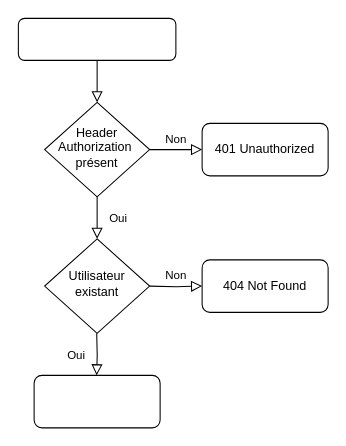
Image size: 346x446. Some labels were removed from this diagram. The shapes that lost their labels are listed below. From the top down, each one's centre as x and y in pixels, then its label:
point 96,38: GET api/v1/users/me
point 96,401: 200 OK Avec résultat en JSON
